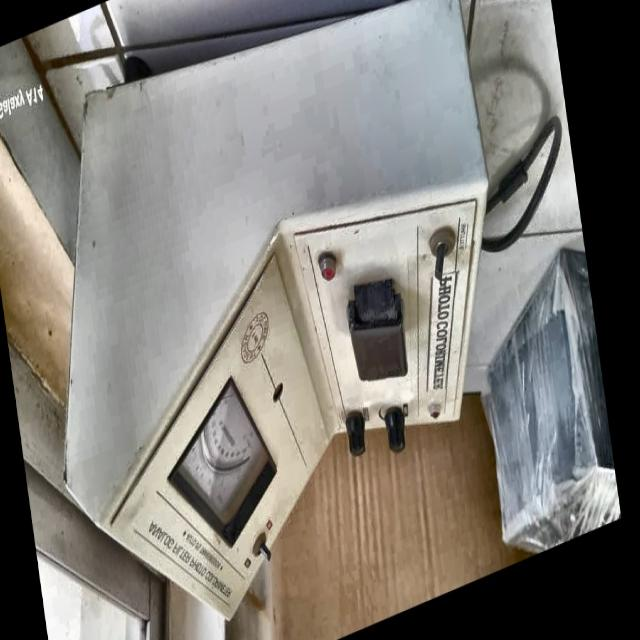Photocolorimeter: (29, 0, 532, 640)
